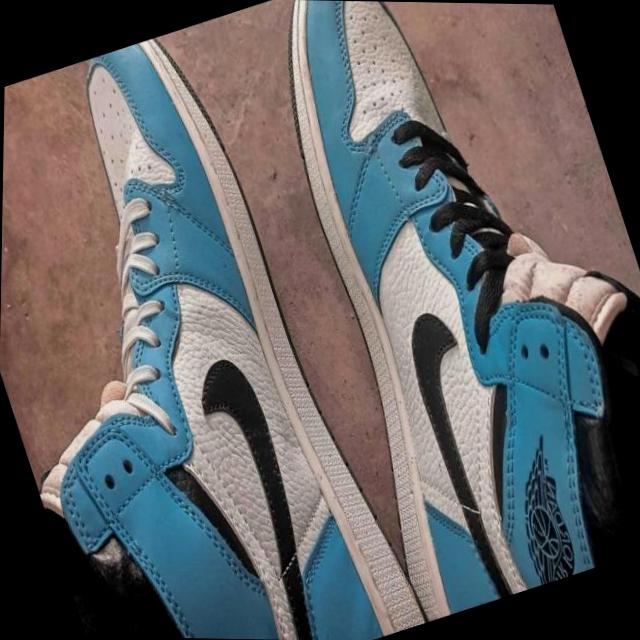nike_fake_jordan: (0, 8, 440, 640), (215, 0, 640, 626)
